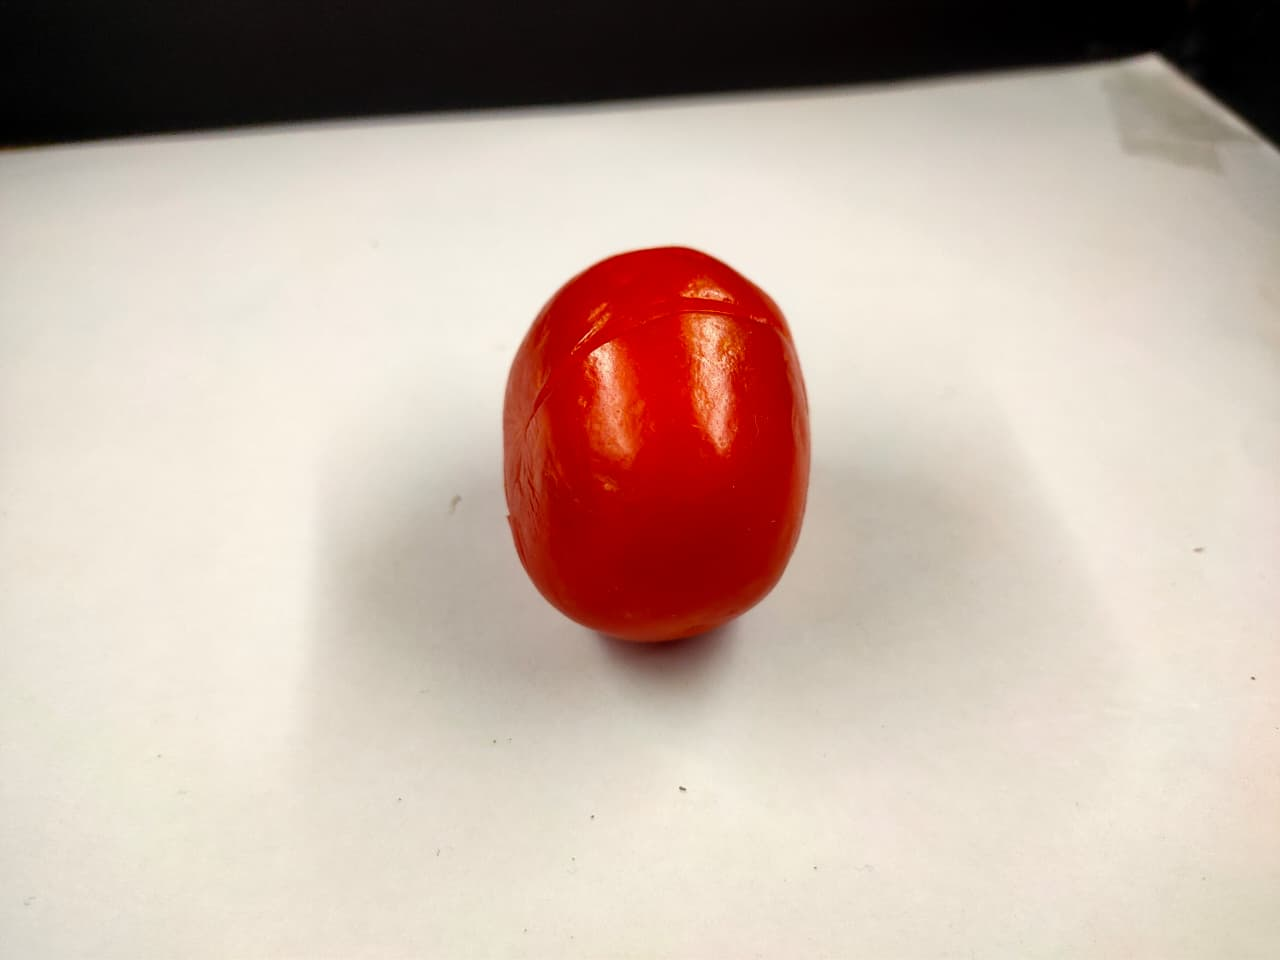damaged: (497, 242, 815, 668)
